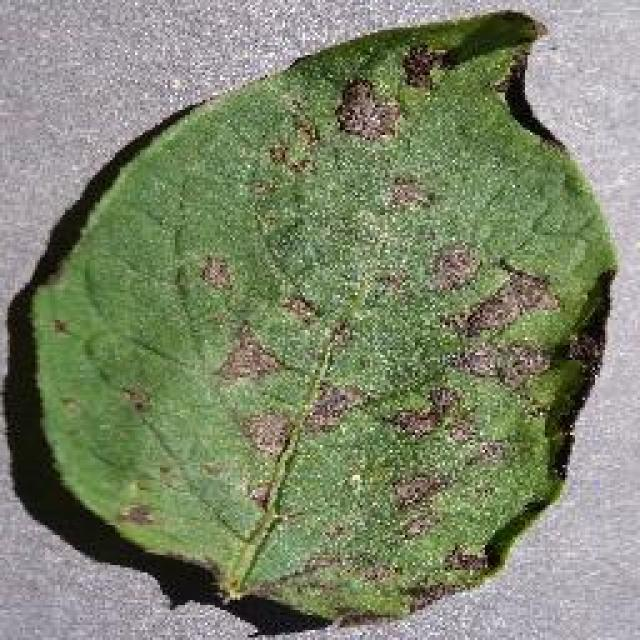early_blight: (20, 5, 622, 630)
